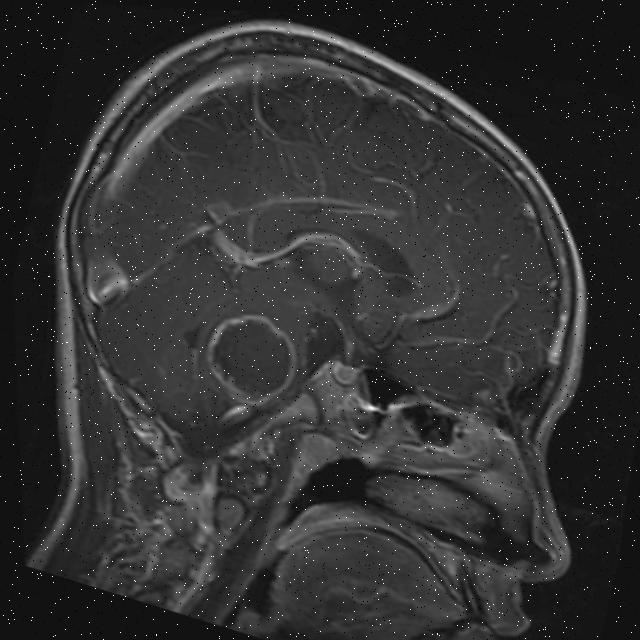Glioma: (188, 297, 310, 420)
